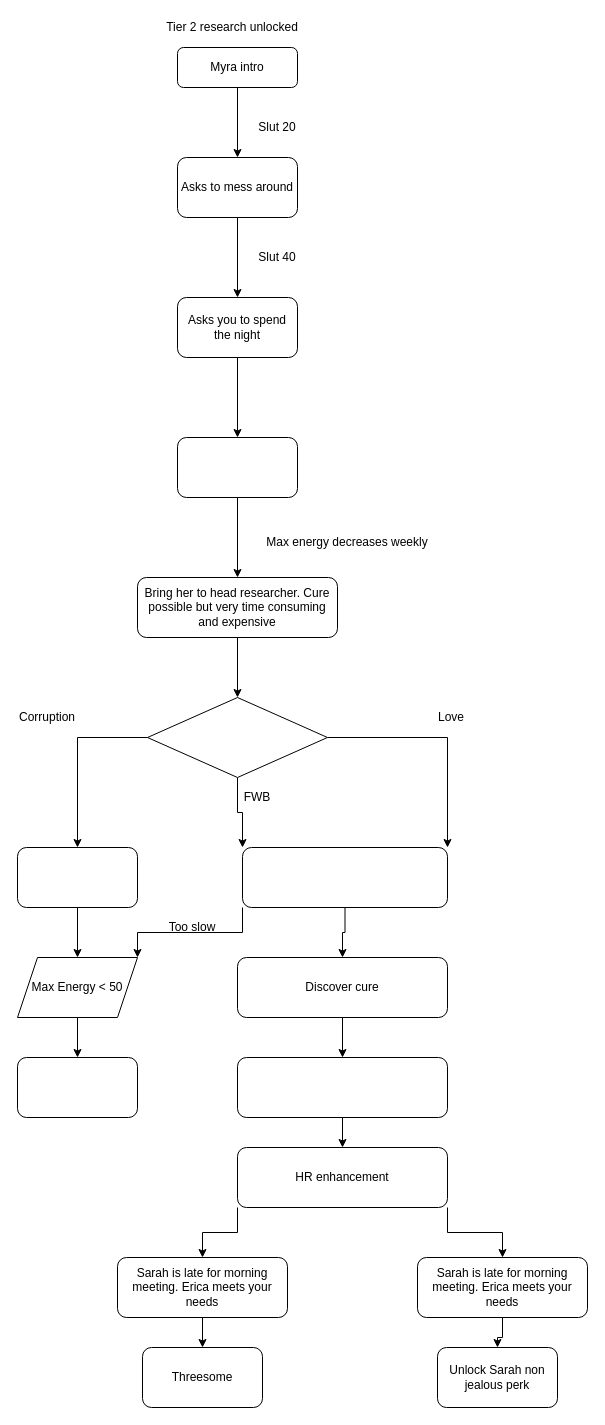
Image size: 605x1425. Some labels were removed from this diagram. Each missing label, with the centre of its shape:
Decision Tree: the point at 237,737
Discover she is sick: the point at 237,467
Live life while you can Big slut bonus: the point at 77,877
Myra dies, removed from game. Leaves note thanking MC: the point at 77,1087
Offer a Job: the point at 342,1087
Race for a cure: the point at 345,877
